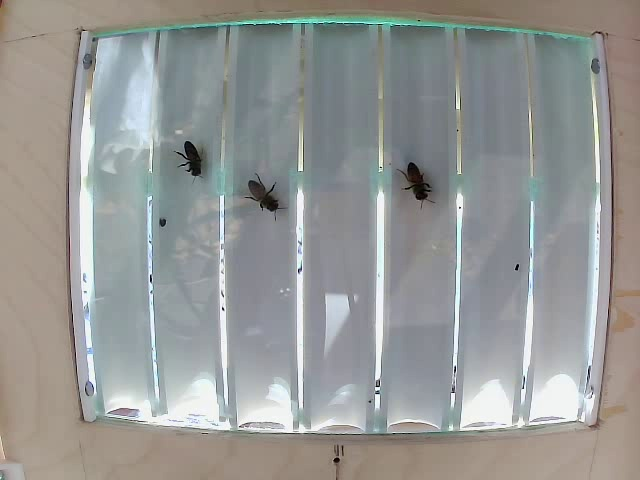bee: (395, 157, 446, 217), (234, 183, 288, 223), (166, 140, 215, 180)
